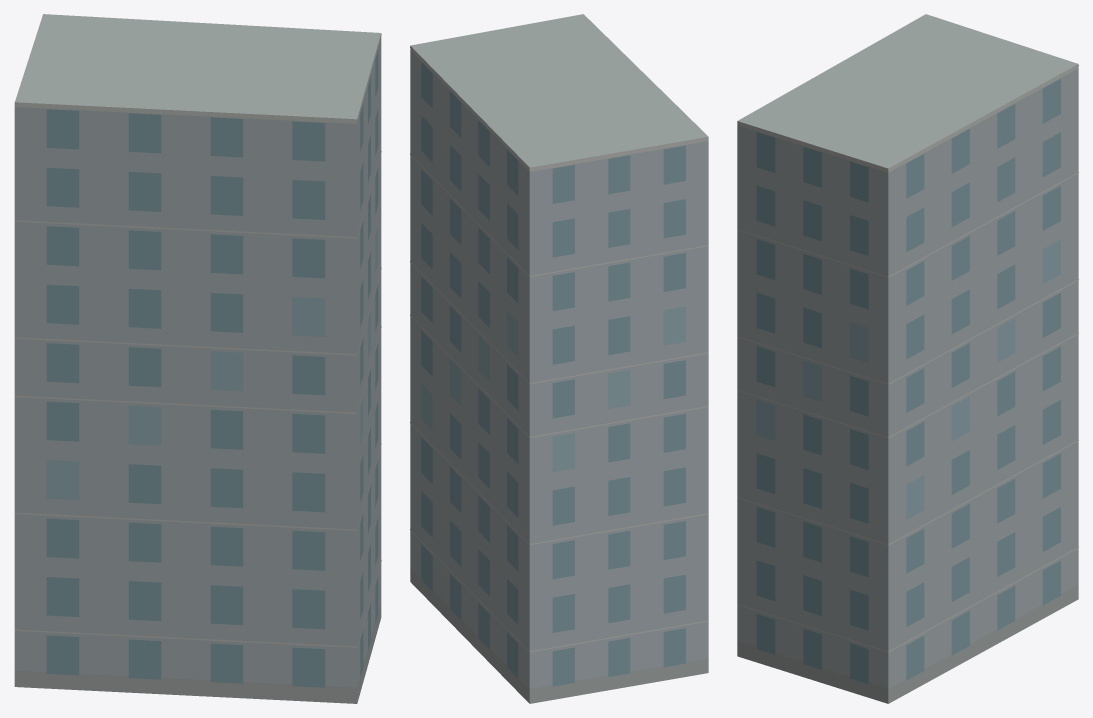
The model's file is survey-upis-32818364.glb.
3 views of the same model, side by side, from view 1: azimuth 30°, elevation 25°; view 2: azimuth 150°, elevation 25°; view 3: azimuth 270°, elevation 25° (orthographic). The views are drawn at different scales.
Parts seen in each view (by area): view 1: survey-upis-32818364.tmp; view 2: survey-upis-32818364.tmp; view 3: survey-upis-32818364.tmp.
Boxes of the visible parts, bbox=[...] form: survey-upis-32818364.tmp: bbox=[14, 14, 381, 703]; survey-upis-32818364.tmp: bbox=[410, 14, 708, 703]; survey-upis-32818364.tmp: bbox=[737, 14, 1078, 703].
Size of the model in its own units: 18.91 by 30.5 by 17.64.
